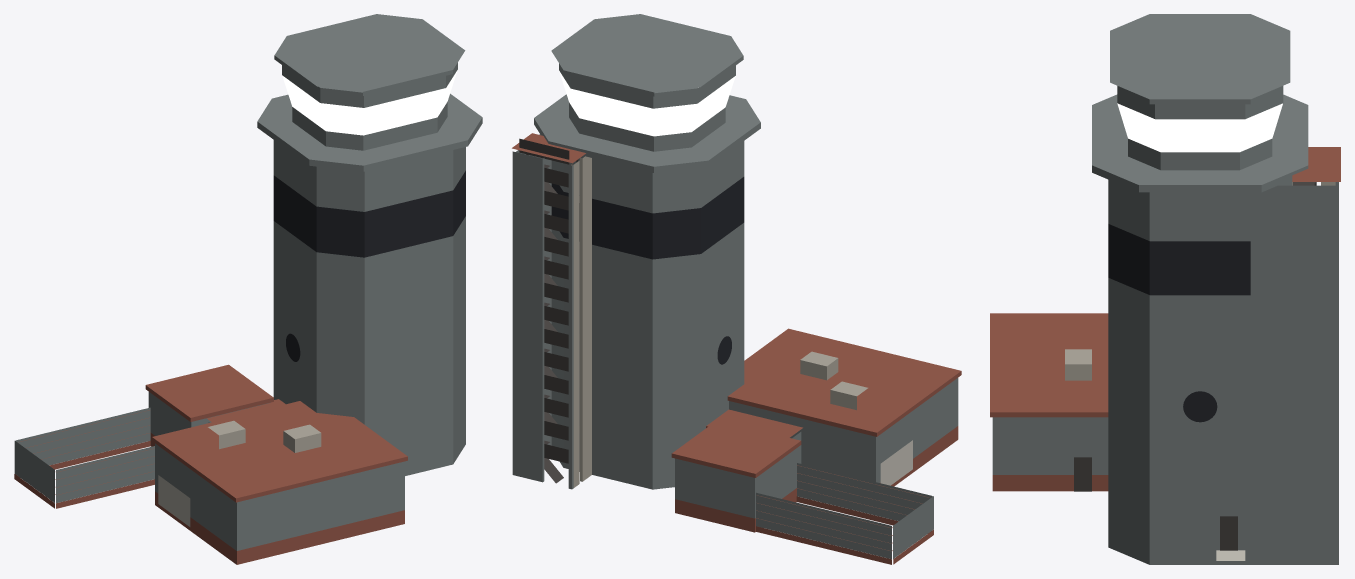
File: cyxd_control_tower_lod2.gltf
The picture shows the model from 3 angles, left to right: view 1: azimuth 30°, elevation 25°; view 2: azimuth 150°, elevation 25°; view 3: azimuth 270°, elevation 25°; orthographic projection. The views are drawn at different scales.
Visible parts, largest first — view 1: cyxd_control_tower; view 2: cyxd_control_tower; view 3: cyxd_control_tower.
Part boxes in pixels (x1,y1,x2,y2): cyxd_control_tower: (14,14,482,564); cyxd_control_tower: (512,14,961,564); cyxd_control_tower: (990,14,1340,564).
Bounding box in the file's own units: 29.71 × 28.45 × 19.45.
